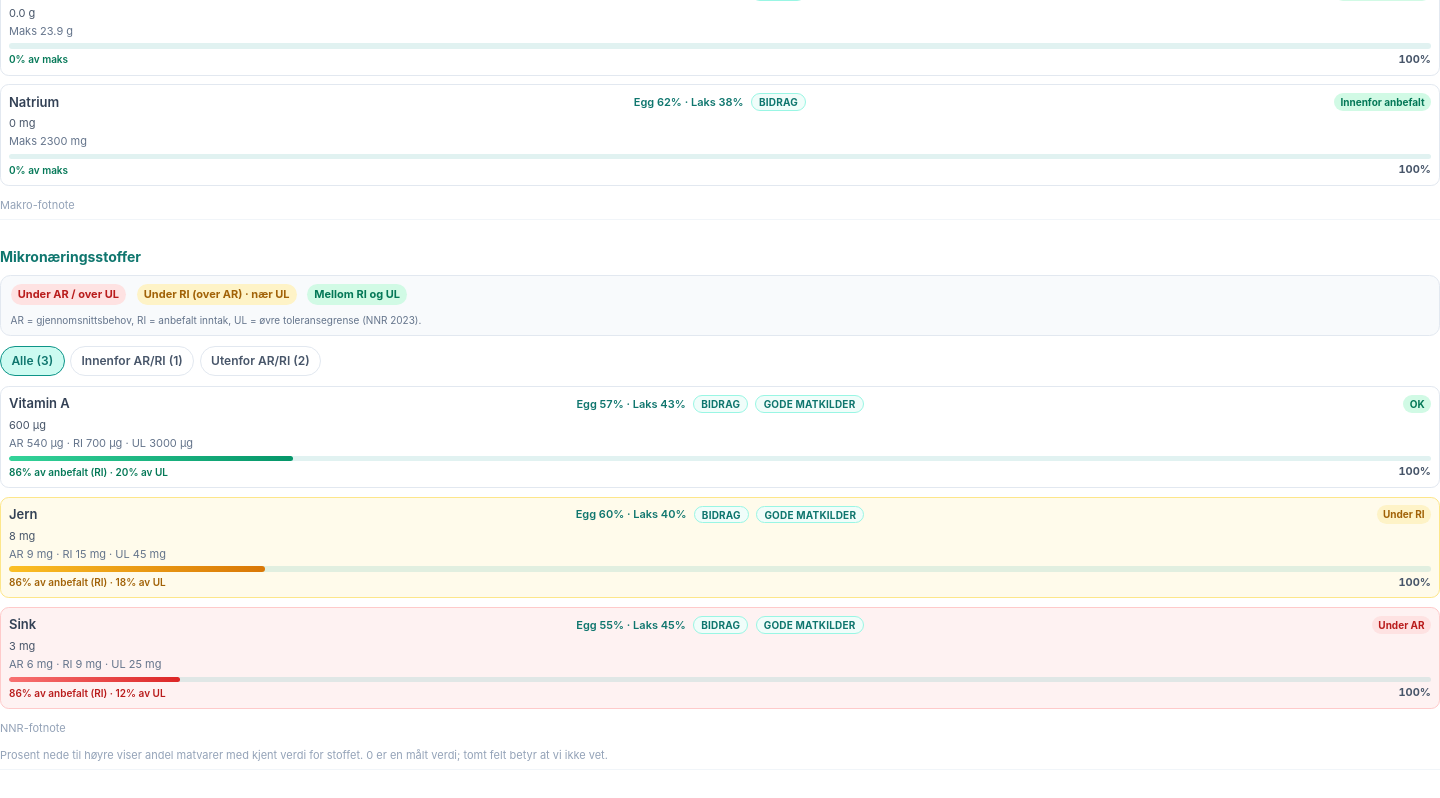
Test: NutritionReportStackedBody › can expand the good-sources list from top 10 to top 50
(page scrolled)
Click the button with aria-label "Vis gode matkilder til Vitamin A" at (810, 404), box [756,395,864,413]
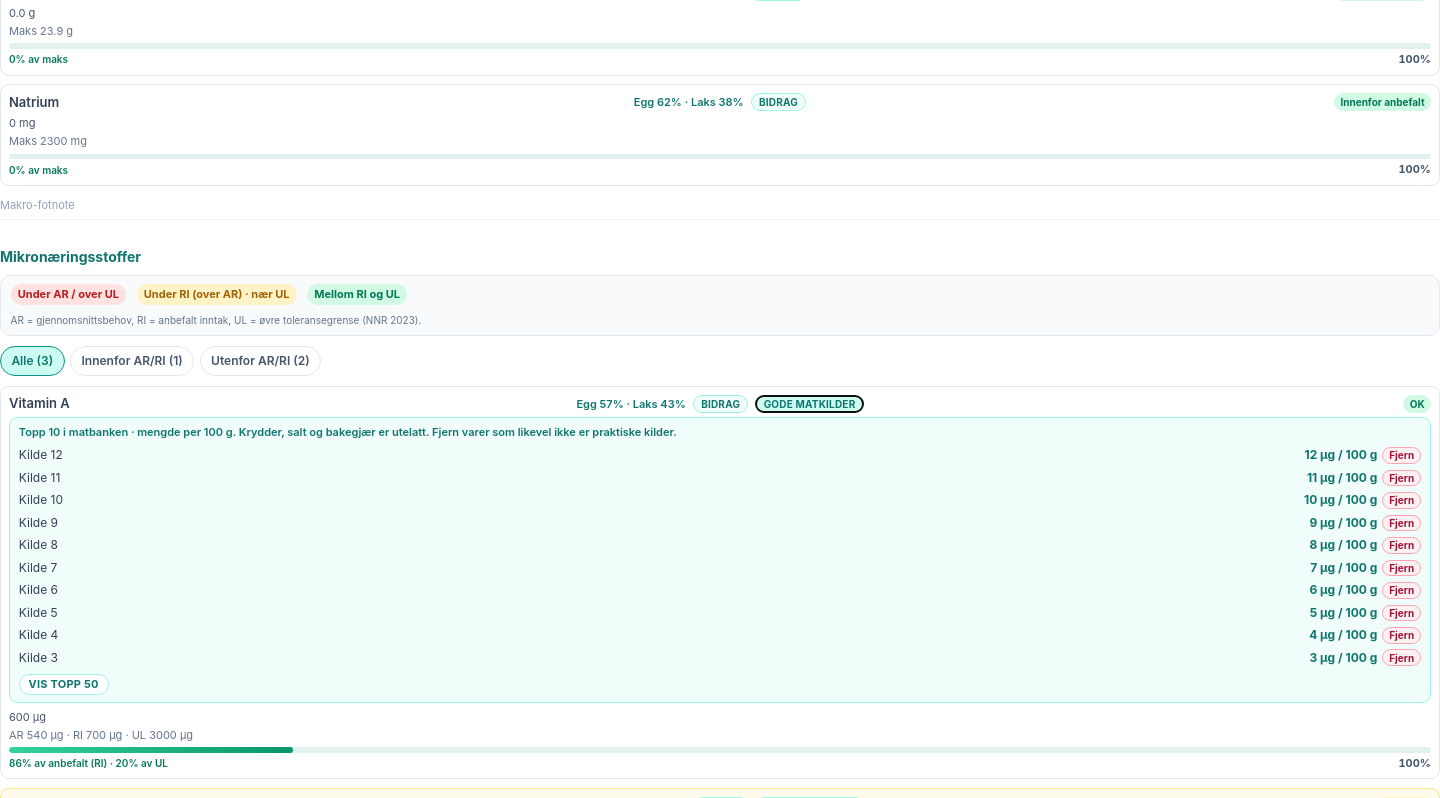
Expected: the text "Kilde 2" is not shown
Expected: the text "Kilde 12" is shown, [19,446,63,464]
Expected: the button "Vis topp 50" is shown
Click the button "Vis topp 50" at (64, 684), box [19,674,108,695]
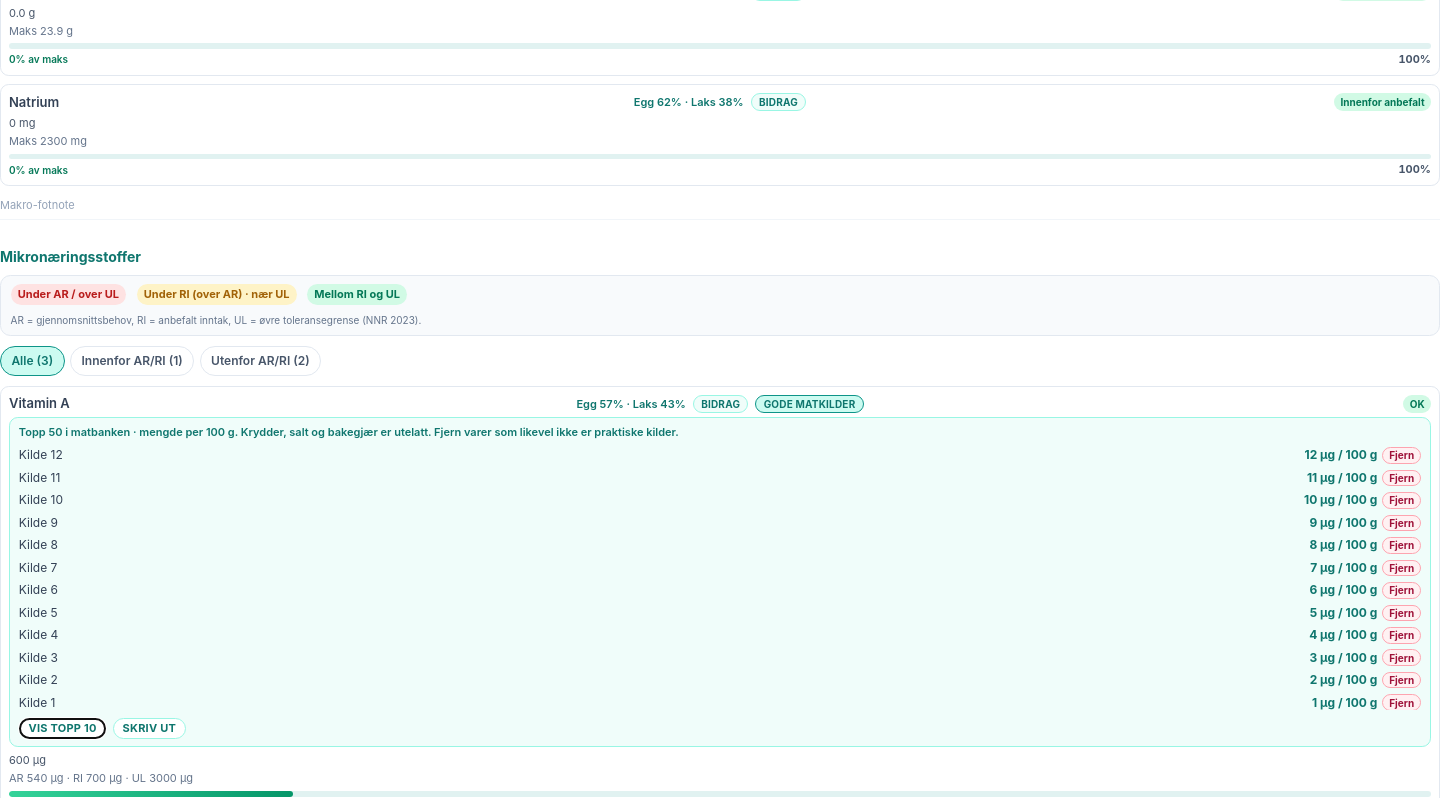
Expected: the text "Topp 50 i matbanken · mengde per 100 g. Krydder, salt og bakegjær er utelatt. Fjern varer som likevel ikke er praktiske " is shown, [19,425,679,439]
Expected: the text "Kilde 2" is shown, [19,671,58,689]
Expected: the button "Skriv ut" is shown
Click the button "Skriv ut" at (149, 728), box [113,718,186,739]
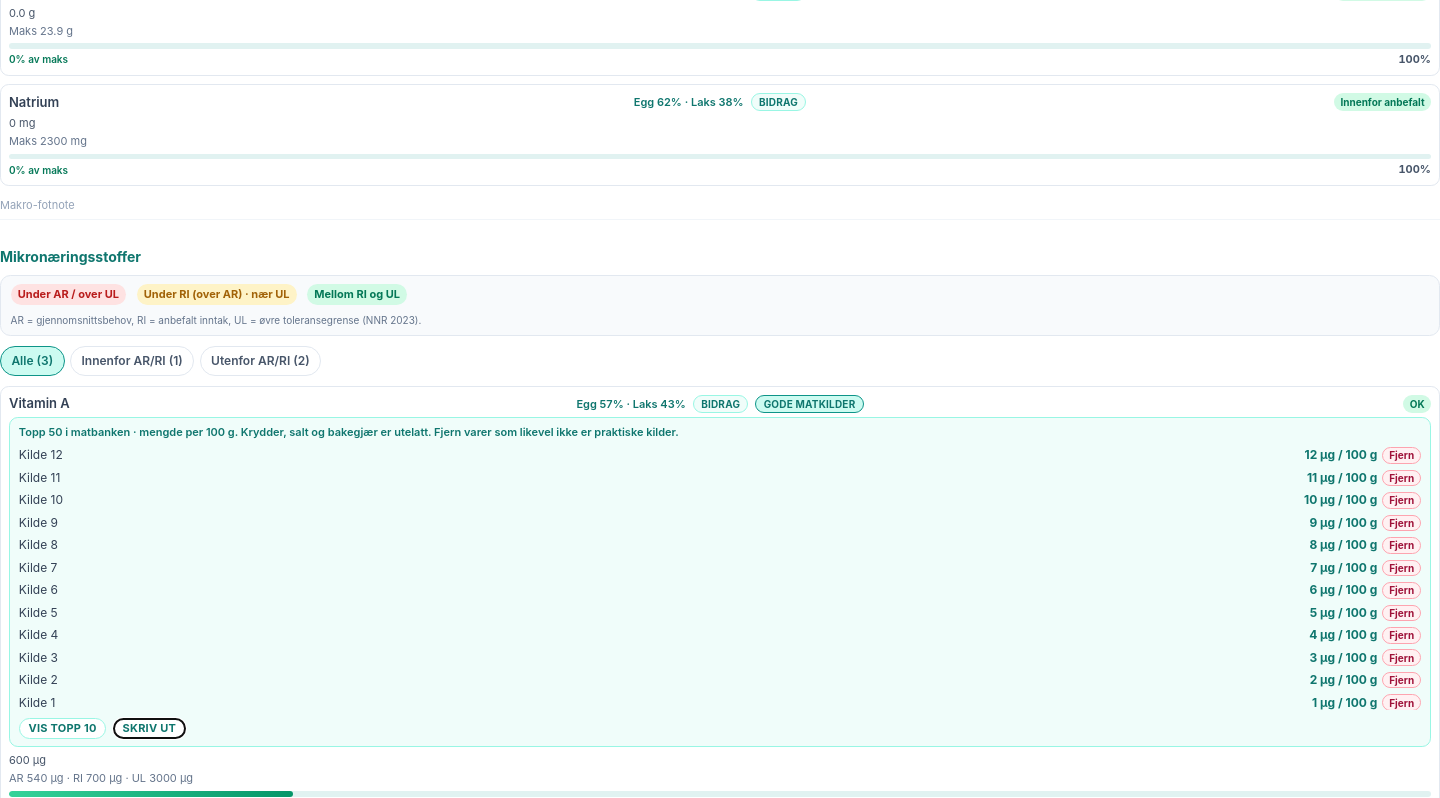
Click the button "Vis topp 10" at (63, 728), box [19,718,106,739]
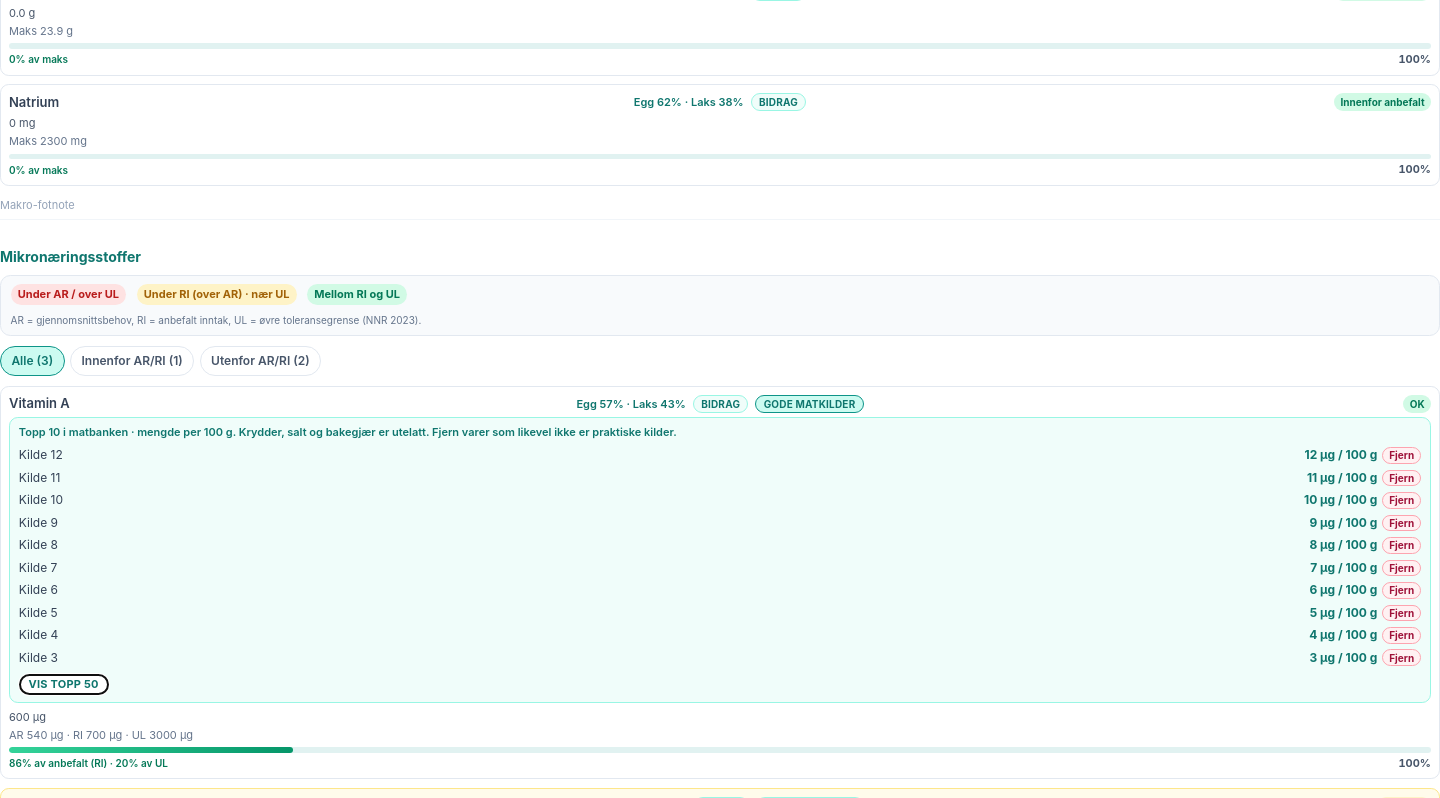
Expected: the button "Skriv ut" is gone
Expected: the text "Kilde 2" is gone
